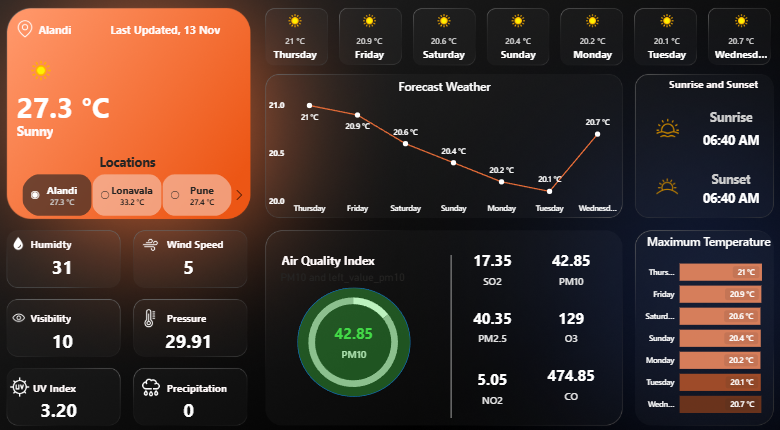

The dashboard page shown, as its layout file describes it:
{"tool":"powerbi","page":{"name":"Page 1","canvas":[1280,720],"ordinal":0},"visuals":[{"type":"advancedSlicerVisual","title":"Locations","fields":{"Values":["location.location.name"]},"box":[23.3,253.9,388.3,105.7],"z":0},{"type":"shape","box":[35.7,142.7,170.2,71.4],"z":1000},{"type":"shape","box":[35.7,182.5,170.2,71.4],"z":2000},{"type":"shape","box":[72.7,27.4,72.7,52.1],"z":3000},{"type":"shape","box":[177,27.4,201.7,52.1],"z":4000},{"type":"image","box":[35.7,34.3,37,39.8],"z":5000},{"type":"cardVisual","fields":{"Data":["Min(current.current.condition.icon)"]},"box":[23.3,64.5,109.8,118],"z":6000},{"type":"shape","box":[60.4,378.7,78.2,41.2],"z":7000},{"type":"image","box":[28.8,382.8,31.6,31.6],"z":8000},{"type":"shape","box":[60.4,496.7,78.2,41.2],"z":9000},{"type":"image","box":[23.3,500.9,41.2,32.9],"z":10000},{"type":"image","box":[23.3,606.5,43.9,42.5],"z":11000},{"type":"shape","box":[64.5,607.9,78.2,41.2],"z":12000},{"type":"image","box":[229.2,381.5,49.4,35.7],"z":13000},{"type":"shape","box":[278.6,378.7,100.2,41.2],"z":14000},{"type":"image","box":[233.3,498.1,39.8,38.4],"z":15000},{"type":"shape","box":[278.6,496.7,78.2,41.2],"z":16000},{"type":"image","box":[234.6,606.5,43.9,43.9],"z":17000},{"type":"shape","box":[278.6,607.9,133.1,41.2],"z":18000},{"type":"card","fields":{"Values":["Sum(current.current.humidity)"]},"box":[43.9,399.3,141.3,71.4],"z":19000},{"type":"card","fields":{"Values":["Sum(current.current.wind_kph)"]},"box":[247,399.3,141.3,71.4],"z":20000},{"type":"card","fields":{"Values":["Sum(current.current.pressure_in)"]},"box":[246.9,517.4,141.1,72],"z":21000},{"type":"card","fields":{"Values":["Sum(current.current.precip_in)"]},"box":[246.9,627.7,141.1,72],"z":22000},{"type":"card","fields":{"Values":["Sum(current.current.uv)"]},"box":[38.2,627.7,141.1,72],"z":23000},{"type":"card","fields":{"Values":["Sum(current.current.vis_km)"]},"box":[44.1,517.4,141.1,72],"z":24000},{"type":"advancedSlicerVisual","fields":{"Values":["forcast_day.Day_name"]},"box":[426.8,15.9,839.1,107.1],"z":25000},{"type":"lineChart","title":"Forecast Weather","fields":{"Y":["Sum(forcast_day.forecast.forecastday.day.avgtemp_c)"],"Category":["forcast_day.Day_name"]},"box":[439.8,133.1,571.4,225.7],"z":26000},{"type":"shape","box":[1082.1,123,154.8,40.5],"z":27000},{"type":"shape","box":[1116.7,266.7,136.4,57.6],"z":28000},{"type":"shape","box":[1116.7,195.5,136.4,71.2],"z":29000},{"type":"shape","box":[1116.7,287.9,136.4,71.2],"z":30000},{"type":"shape","box":[1116.7,166.7,136.4,57.6],"z":31000},{"type":"image","box":[1039.4,190.9,84.8,45.5],"z":32000},{"type":"image","box":[1045.5,278.8,72.7,56.1],"z":33000},{"type":"barChart","title":"Maximum Temperature","fields":{"Category":["forcast_day.Day_name"],"Y":["Sum(forcast_day.forecast.forecastday.day.maxtemp_c)"]},"box":[1029.4,381.4,236.6,306.8],"z":34000},{"type":"shape","box":[462.8,404,176.5,39.8],"z":35000},{"type":"card","fields":{"Values":["Sum(current.current.air_quality.pm10)"]},"box":[884.3,404,89.1,66.8],"z":36000},{"type":"card","fields":{"Values":["Sum(current.current.air_quality.so2)"]},"box":[757.1,404,89.1,66.8],"z":37000},{"type":"card","fields":{"Values":["Sum(current.current.air_quality.o3)"]},"box":[884.3,496.2,89.1,66.8],"z":38000},{"type":"card","fields":{"Values":["Sum(current.current.air_quality.pm2_5)"]},"box":[757.1,496.2,89.1,66.8],"z":39000},{"type":"card","fields":{"Values":["Sum(current.current.air_quality.co)"]},"box":[884.3,588.5,89.1,66.8],"z":40000},{"type":"card","fields":{"Values":["Sum(current.current.air_quality.no2)"]},"box":[757.1,594.8,89.1,66.8],"z":41000},{"type":"shape","box":[639.4,416.7,192.4,260.8],"z":42000},{"type":"card","fields":{"Values":["Sum(current.current.air_quality.pm10)"]},"box":[521.7,502.6,117.7,103.4],"z":43000},{"type":"donutChart","fields":{"Y":["Sum(current.current.air_quality.pm10)","_Measure.left_value_pm10"]},"box":[458.1,442.1,243.3,208.4],"z":44000},{"type":"shape","box":[489.9,467.6,181.3,175],"z":45000}]}

Visuals, with their boxes in screenshot pixels (x1, y1, x2, y2), scaled from the page's 1280x720 canvas onto the 780x430 screenshot:
"Locations" advancedSlicerVisual: left=14, top=152, right=251, bottom=215
shape: left=22, top=85, right=125, bottom=128
shape: left=22, top=109, right=125, bottom=152
shape: left=44, top=16, right=89, bottom=47
shape: left=108, top=16, right=231, bottom=47
image: left=22, top=20, right=44, bottom=44
cardVisual - Min(current.current.condition.icon): left=14, top=39, right=81, bottom=109
shape: left=37, top=226, right=84, bottom=251
image: left=18, top=229, right=37, bottom=247
shape: left=37, top=297, right=84, bottom=321
image: left=14, top=299, right=39, bottom=319
image: left=14, top=362, right=41, bottom=388
shape: left=39, top=363, right=87, bottom=388
image: left=140, top=228, right=170, bottom=249
shape: left=170, top=226, right=231, bottom=251
image: left=142, top=297, right=166, bottom=320
shape: left=170, top=297, right=217, bottom=321
image: left=143, top=362, right=170, bottom=388
shape: left=170, top=363, right=251, bottom=388
card - Sum(current.current.humidity): left=27, top=238, right=113, bottom=281
card - Sum(current.current.wind_kph): left=151, top=238, right=237, bottom=281
card - Sum(current.current.pressure_in): left=150, top=309, right=236, bottom=352
card - Sum(current.current.precip_in): left=150, top=375, right=236, bottom=418
card - Sum(current.current.uv): left=23, top=375, right=109, bottom=418
card - Sum(current.current.vis_km): left=27, top=309, right=113, bottom=352
advancedSlicerVisual - forcast_day.Day_name: left=260, top=9, right=771, bottom=73
"Forecast Weather" lineChart: left=268, top=79, right=616, bottom=214
shape: left=659, top=73, right=754, bottom=98
shape: left=680, top=159, right=764, bottom=194
shape: left=680, top=117, right=764, bottom=159
shape: left=680, top=172, right=764, bottom=214
shape: left=680, top=100, right=764, bottom=134
image: left=633, top=114, right=685, bottom=141
image: left=637, top=167, right=681, bottom=200
"Maximum Temperature" barChart: left=627, top=228, right=771, bottom=411
shape: left=282, top=241, right=390, bottom=265
card - Sum(current.current.air_quality.pm10): left=539, top=241, right=593, bottom=281
card - Sum(current.current.air_quality.so2): left=461, top=241, right=516, bottom=281
card - Sum(current.current.air_quality.o3): left=539, top=296, right=593, bottom=336
card - Sum(current.current.air_quality.pm2_5): left=461, top=296, right=516, bottom=336
card - Sum(current.current.air_quality.co): left=539, top=351, right=593, bottom=391
card - Sum(current.current.air_quality.no2): left=461, top=355, right=516, bottom=395
shape: left=390, top=249, right=507, bottom=405
card - Sum(current.current.air_quality.pm10): left=318, top=300, right=390, bottom=362
donutChart - Sum(current.current.air_quality.pm10) x _Measure.left_value_pm10: left=279, top=264, right=427, bottom=388
shape: left=299, top=279, right=409, bottom=384
